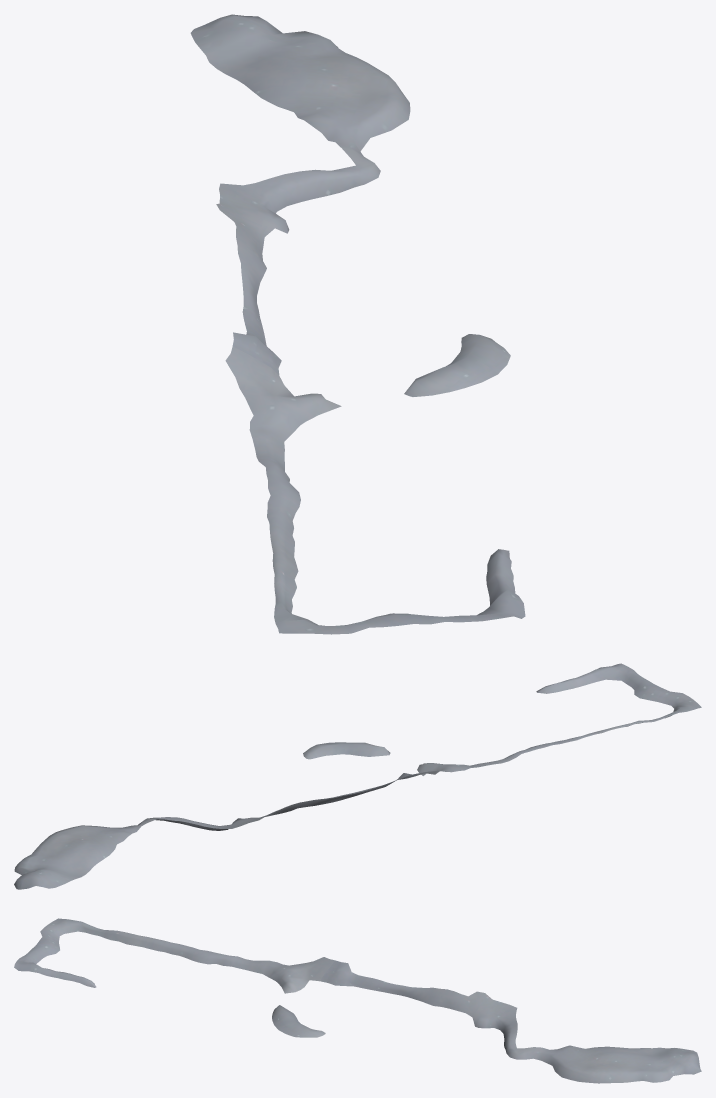
Rendered from pref_sm_beach_winter_blocksnow04a_lv3.fbx.
3 renders of one model, top to bottom at view 1: azimuth 30°, elevation 25°; view 2: azimuth 150°, elevation 25°; view 3: azimuth 270°, elevation 25°, orthographic. The views are drawn at different scales.
Parts seen in each view (by area): view 1: pref_sm_beach_winter_blocksnow04a_lv3; view 2: pref_sm_beach_winter_blocksnow04a_lv3; view 3: pref_sm_beach_winter_blocksnow04a_lv3.
Part boxes in pixels (x1=…): pref_sm_beach_winter_blocksnow04a_lv3: x1=190, y1=14, x2=525, y2=634; pref_sm_beach_winter_blocksnow04a_lv3: x1=14, y1=663, x2=701, y2=889; pref_sm_beach_winter_blocksnow04a_lv3: x1=14, y1=918, x2=701, y2=1083.
Bounding box in the file's own units: 11.92 × 0.6755 × 21.6.
